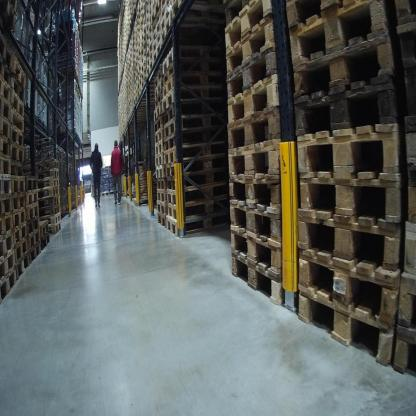pallet: (294, 237, 399, 338), (293, 29, 400, 114), (294, 283, 397, 358), (298, 117, 404, 186), (292, 70, 406, 134), (290, 3, 394, 68), (294, 165, 403, 227), (291, 203, 402, 263), (230, 250, 288, 323), (225, 14, 279, 89), (226, 39, 282, 109), (228, 69, 285, 135), (231, 221, 288, 277), (224, 136, 291, 183), (226, 174, 287, 220), (223, 1, 274, 55), (223, 197, 284, 239), (284, 1, 357, 32), (225, 109, 283, 147), (162, 86, 231, 116), (164, 71, 227, 102), (164, 44, 227, 75), (161, 57, 229, 83), (165, 150, 228, 177), (166, 213, 232, 238), (164, 115, 222, 143), (162, 101, 225, 126), (165, 180, 225, 206), (166, 169, 229, 192), (165, 143, 230, 165), (393, 268, 415, 330), (165, 132, 227, 153), (173, 1, 230, 23), (395, 44, 412, 115), (392, 325, 413, 378), (164, 202, 224, 219), (401, 160, 416, 225), (401, 214, 414, 284), (395, 2, 414, 47), (402, 106, 416, 160), (221, 2, 251, 27), (1, 266, 17, 307), (23, 156, 61, 173), (0, 248, 15, 289), (10, 52, 27, 88), (160, 13, 177, 47), (1, 30, 14, 71), (12, 207, 27, 237), (1, 74, 14, 108), (15, 237, 29, 266), (38, 197, 60, 215), (9, 124, 24, 150), (14, 219, 29, 245), (36, 179, 62, 194), (1, 94, 14, 123), (1, 58, 13, 88), (14, 255, 30, 277), (154, 36, 165, 68), (1, 231, 13, 260), (2, 211, 14, 240), (0, 111, 11, 141), (11, 78, 24, 103), (27, 239, 40, 264), (37, 219, 50, 244), (0, 134, 12, 161), (13, 106, 24, 135), (12, 189, 27, 210), (1, 174, 13, 200), (37, 207, 61, 220), (161, 3, 174, 27), (12, 93, 24, 118), (12, 174, 24, 199), (39, 187, 62, 200), (25, 168, 39, 188), (12, 142, 24, 165), (2, 150, 13, 175), (3, 196, 14, 220), (28, 215, 40, 237), (151, 9, 163, 31), (153, 67, 163, 93), (39, 234, 51, 255), (133, 197, 153, 209), (152, 30, 164, 50), (11, 159, 24, 177), (27, 204, 40, 222), (151, 103, 162, 124), (152, 20, 162, 43), (155, 211, 167, 230), (28, 192, 41, 209), (28, 230, 39, 250), (49, 211, 62, 227), (160, 1, 172, 18), (37, 171, 62, 179), (150, 2, 160, 22), (154, 151, 166, 167), (153, 113, 163, 132), (153, 138, 163, 157), (49, 222, 62, 235), (147, 60, 155, 81), (152, 91, 163, 106), (154, 82, 163, 100), (154, 128, 163, 146), (156, 176, 166, 190), (156, 190, 165, 205), (154, 165, 165, 177), (147, 53, 154, 70), (146, 40, 153, 57), (146, 33, 153, 50), (141, 75, 147, 93), (140, 68, 149, 80), (140, 53, 147, 67), (157, 203, 165, 214), (101, 191, 111, 199), (140, 19, 146, 32), (140, 8, 146, 20), (142, 59, 147, 73), (146, 17, 152, 28), (141, 44, 147, 55), (140, 27, 146, 38), (140, 0, 146, 11), (146, 25, 151, 38), (145, 3, 152, 12), (110, 189, 118, 196), (92, 194, 100, 201), (141, 36, 146, 47)
